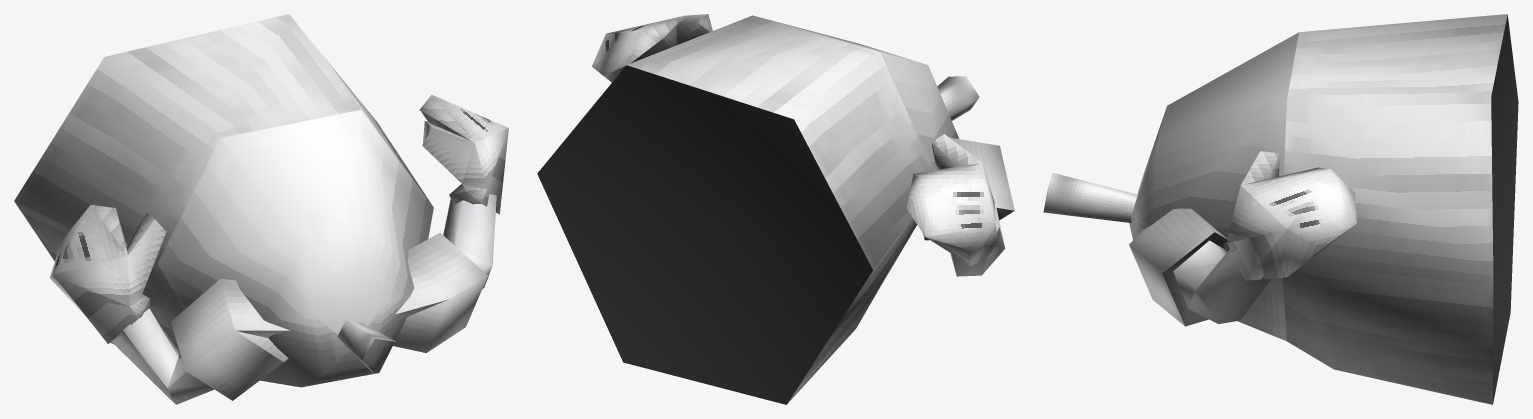
Rendered from torso_sd_500.glb.
3 renders of one model, left to right at view 1: azimuth 30°, elevation 25°; view 2: azimuth 150°, elevation 25°; view 3: azimuth 270°, elevation 25°, orthographic. The views are drawn at different scales.
Parts seen in each view (by area): view 1: torso-top, torso-bot, hands, sleeves, arms, neck; view 2: torso-bot, hands, torso-top, sleeves, neck, arms; view 3: torso-bot, torso-top, hands, sleeves, arms, neck.
Part boxes in pixels (x1=…): torso-top: x1=157, y1=110, x2=433, y2=387; torso-bot: x1=14, y1=14, x2=431, y2=346; hands: x1=50, y1=94, x2=508, y2=343; sleeves: x1=171, y1=232, x2=487, y2=400; arms: x1=111, y1=194, x2=496, y2=404; neck: x1=337, y1=320, x2=396, y2=374; torso-bot: x1=537, y1=15, x2=932, y2=404; hands: x1=592, y1=14, x2=999, y2=265; torso-top: x1=757, y1=16, x2=959, y2=283; sleeves: x1=923, y1=137, x2=1014, y2=240; neck: x1=937, y1=76, x2=979, y2=120; arms: x1=950, y1=207, x2=1005, y2=276; torso-bot: x1=1282, y1=14, x2=1518, y2=404; torso-top: x1=1129, y1=32, x2=1298, y2=341; hands: x1=1227, y1=151, x2=1356, y2=280; sleeves: x1=1129, y1=208, x2=1227, y2=326; arms: x1=1173, y1=240, x2=1271, y2=323; neck: x1=1043, y1=172, x2=1137, y2=222.
Size of the model in its own units: 2.89 by 1.95 by 2.73.
Materials: 6 (6 with a texture image).
